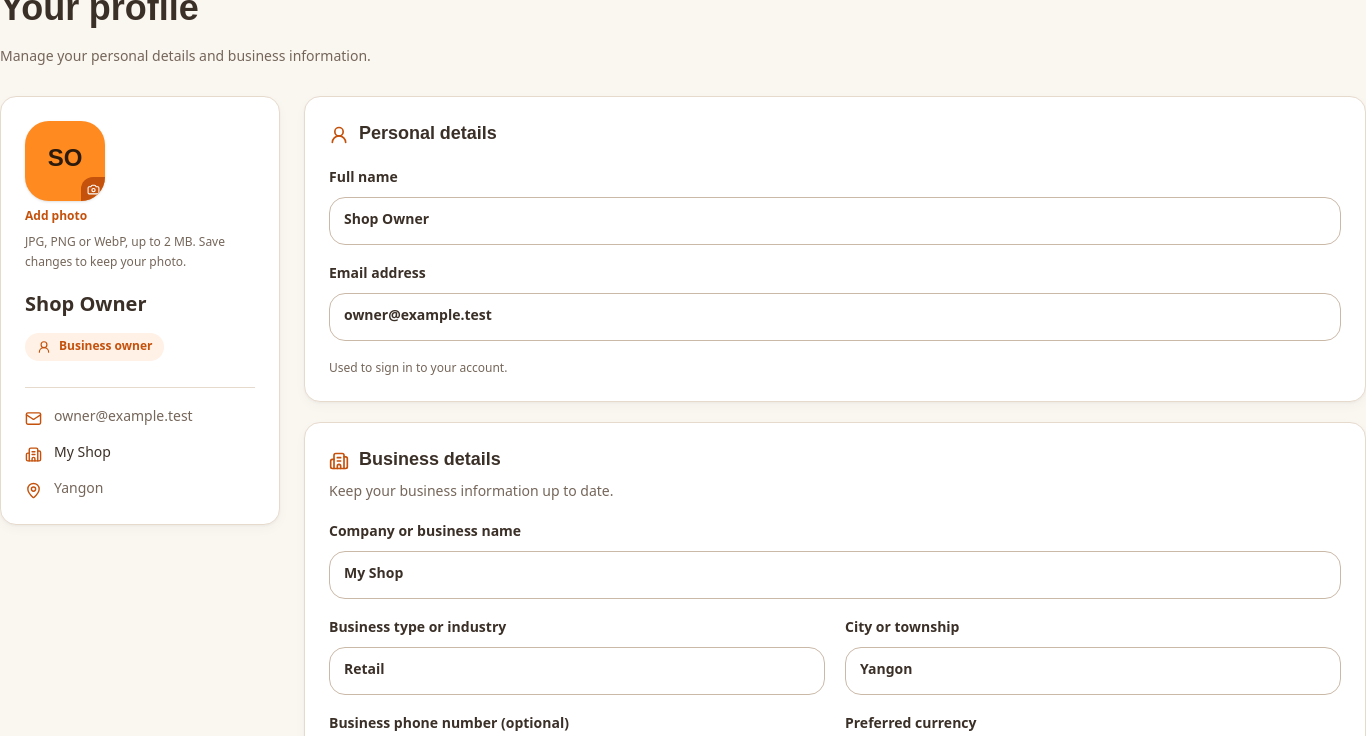
Test: User profile › keeps the draft and reports a failed save without a success confirmation
Replace the text in the field labelled "Full name" with "My unsaved name" at (835, 221), box [329,197,1341,245]
(page scrolled)
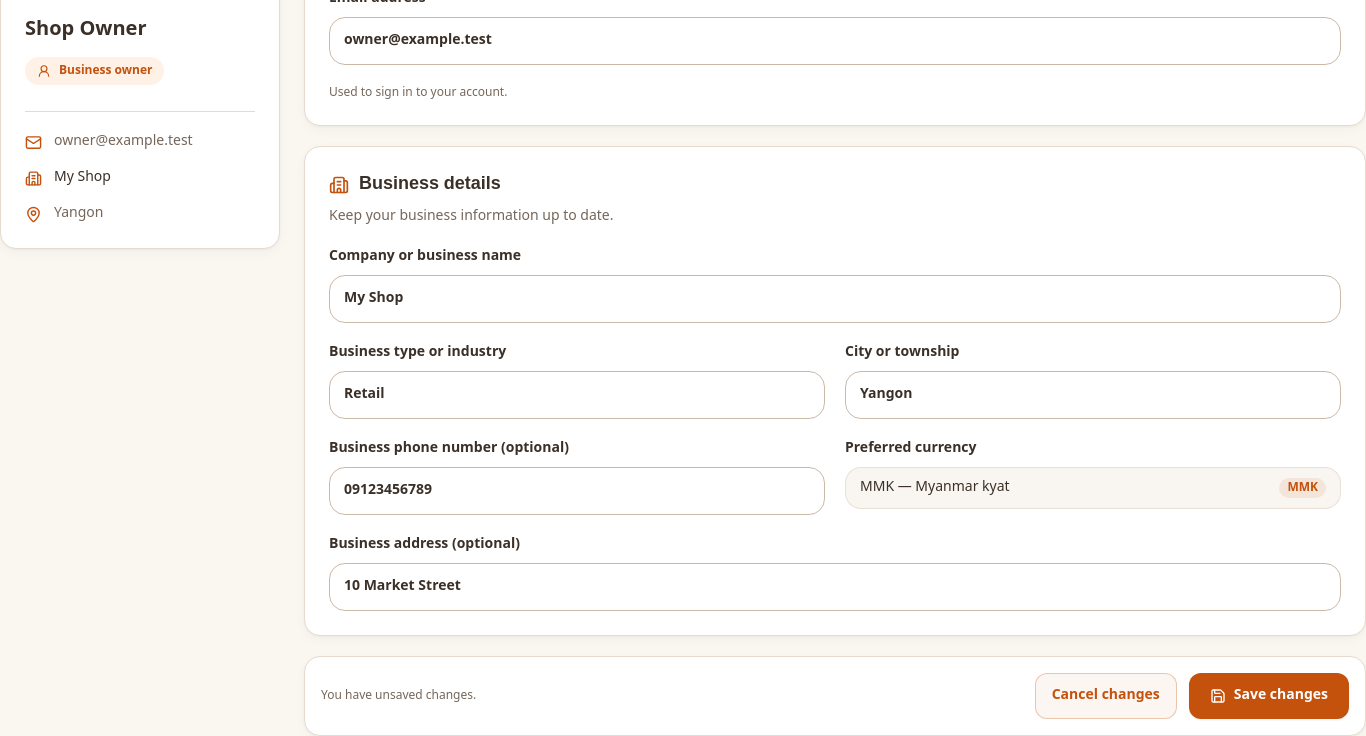
Click the button "Save changes".
click(1269, 696)  # box [1189,673,1349,719]
(page scrolled)
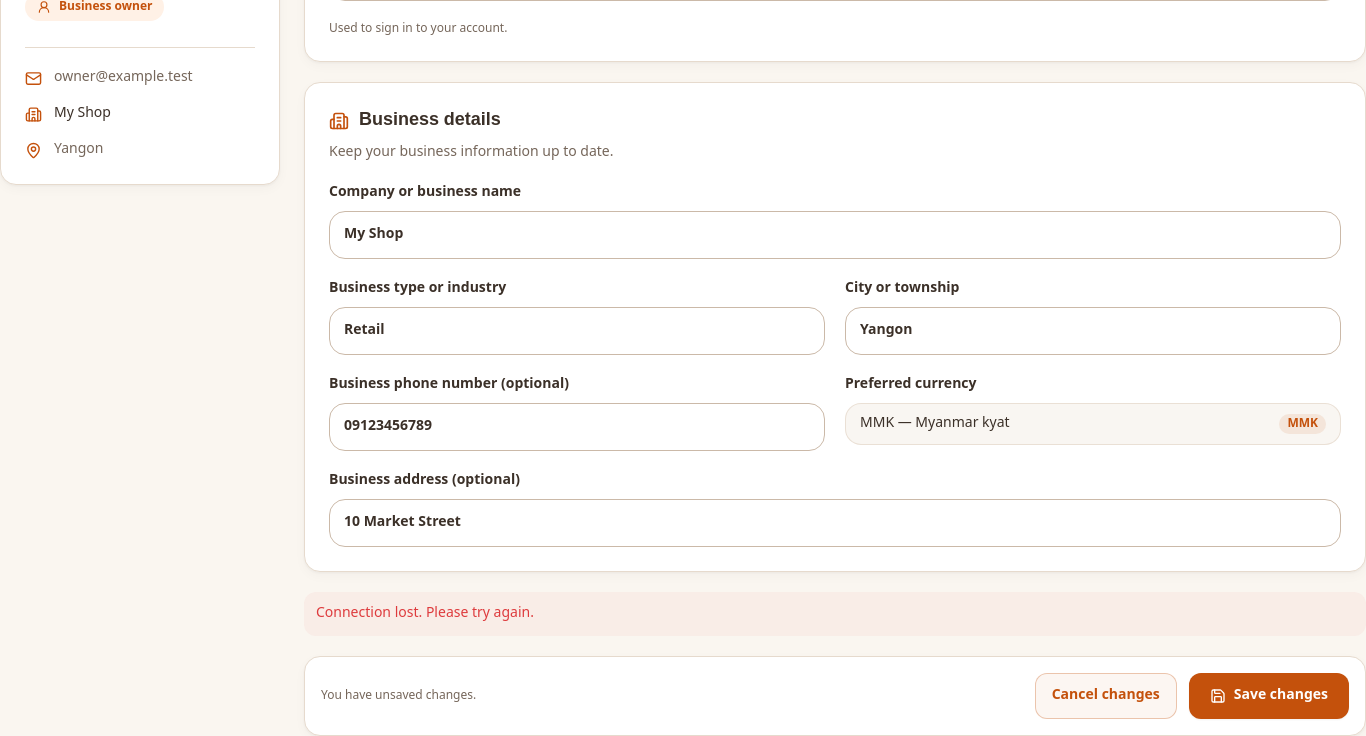
Expected: the button "Save changes" is enabled, [1189,673,1349,719]
Expected: the message reads "Connection lost. Please try again.", [316,598,534,629]
